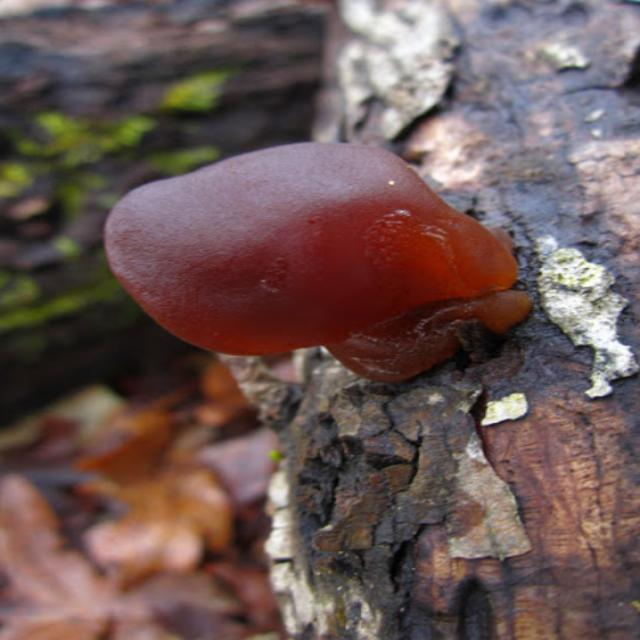Fase Muda: (98, 133, 502, 378)
